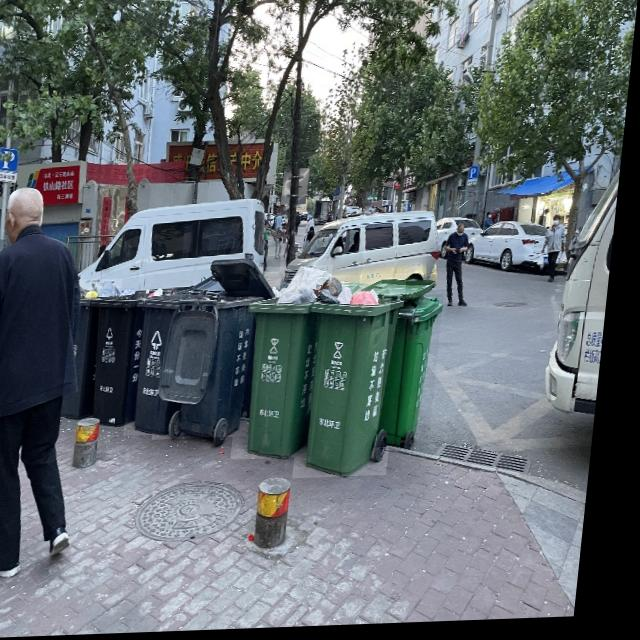garbage_bin: (162, 292, 268, 441), (133, 291, 216, 437), (387, 297, 451, 451)
overflow: (303, 276, 414, 481), (241, 267, 339, 462), (87, 288, 177, 428), (69, 280, 129, 419)
